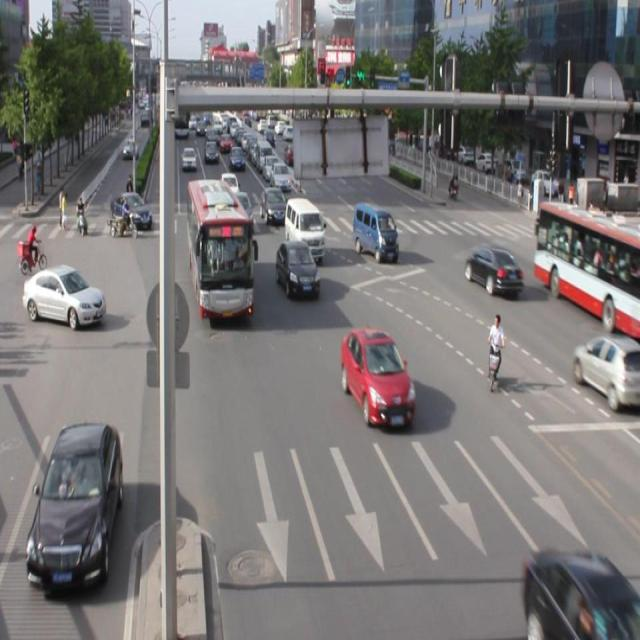car: (25, 420, 123, 592), (522, 547, 640, 640), (341, 326, 415, 428), (571, 333, 640, 409), (464, 245, 524, 295), (276, 239, 320, 298)
truck: (353, 203, 398, 262), (285, 197, 324, 260)
van: (532, 200, 640, 337), (188, 178, 253, 317)
